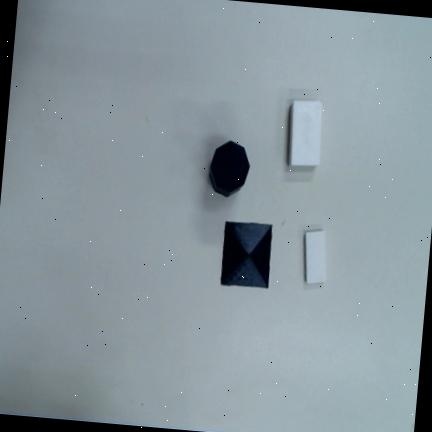Paralelepipedo: (289, 100, 323, 167), (305, 230, 327, 284)
Piramide: (220, 221, 272, 289)
Prisma_hexagonal: (209, 141, 250, 198)
